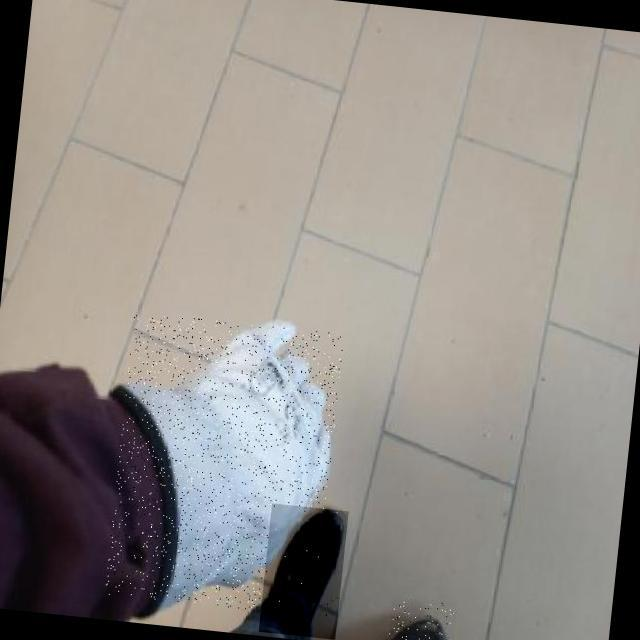Gloves: (114, 312, 370, 590)
Safety Boot: (258, 503, 348, 639), (387, 596, 457, 640)
